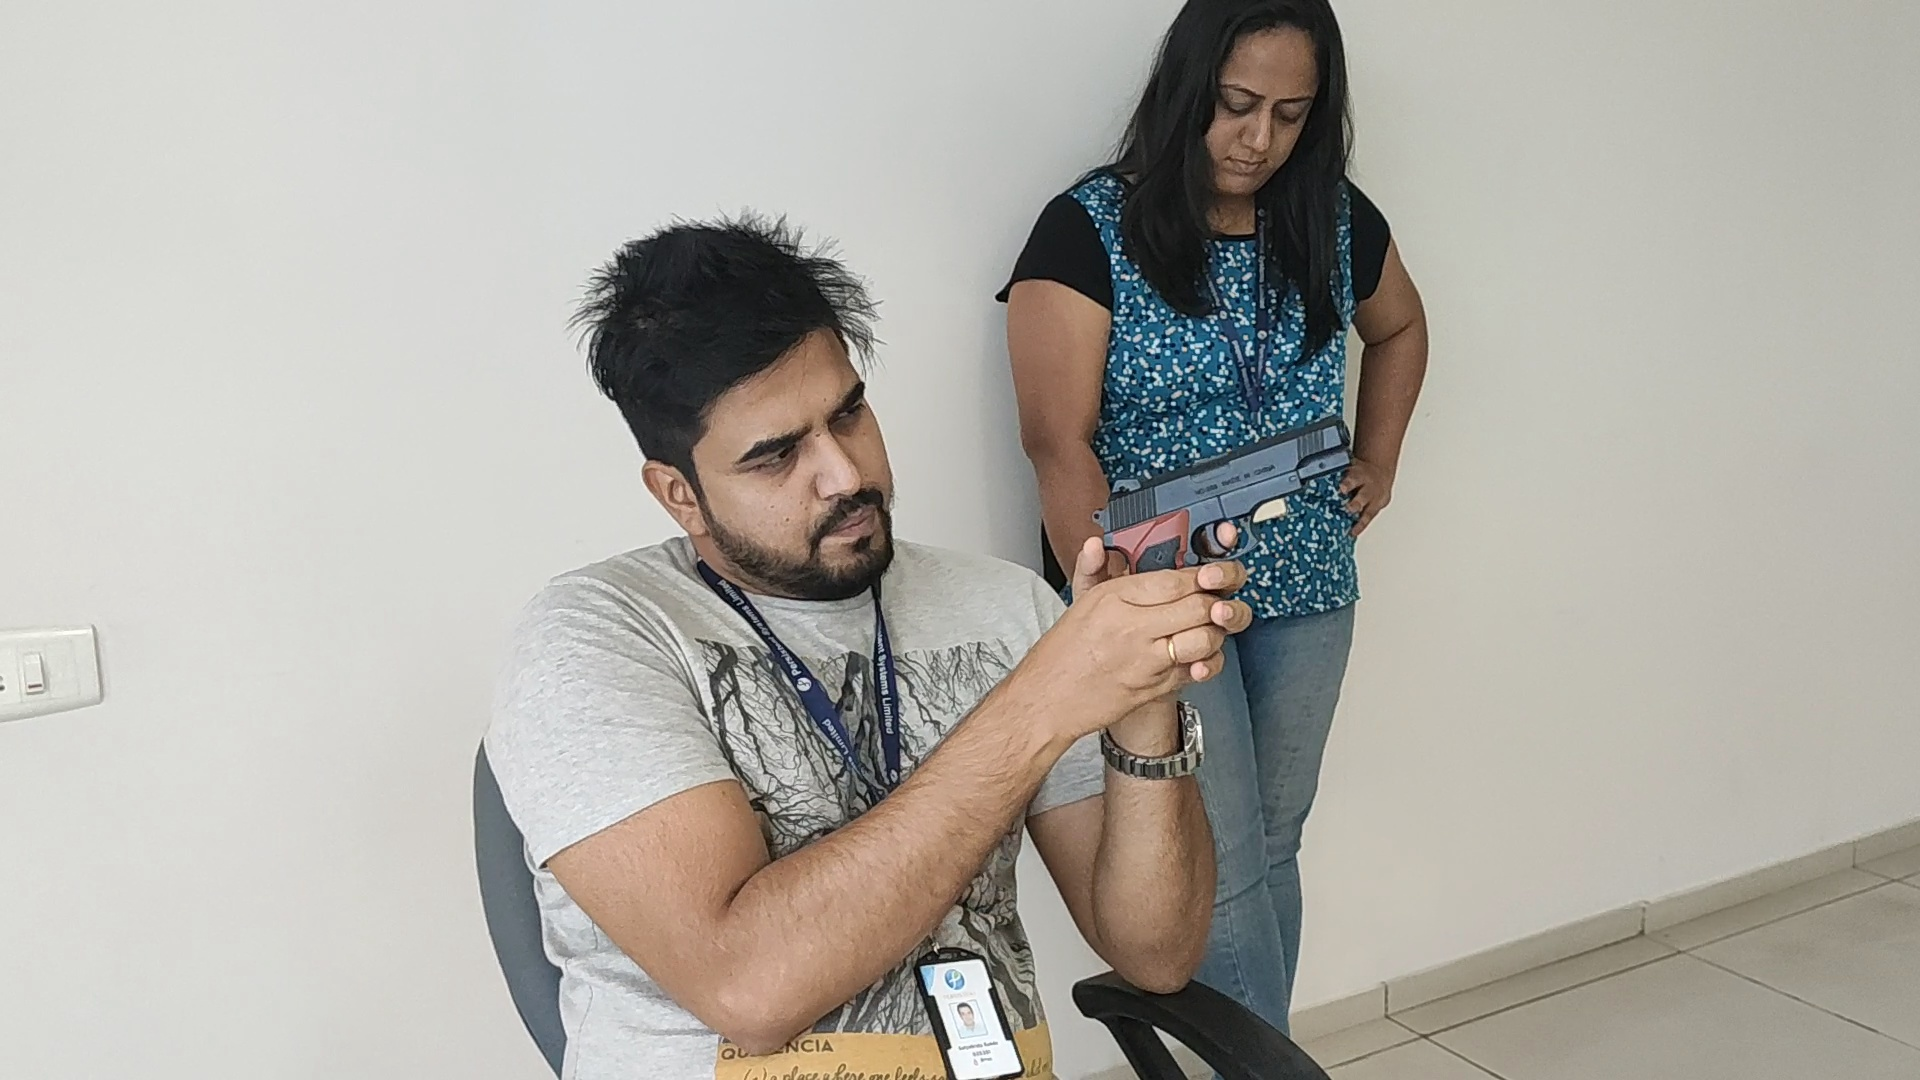gun: (1092, 415, 1354, 538)
